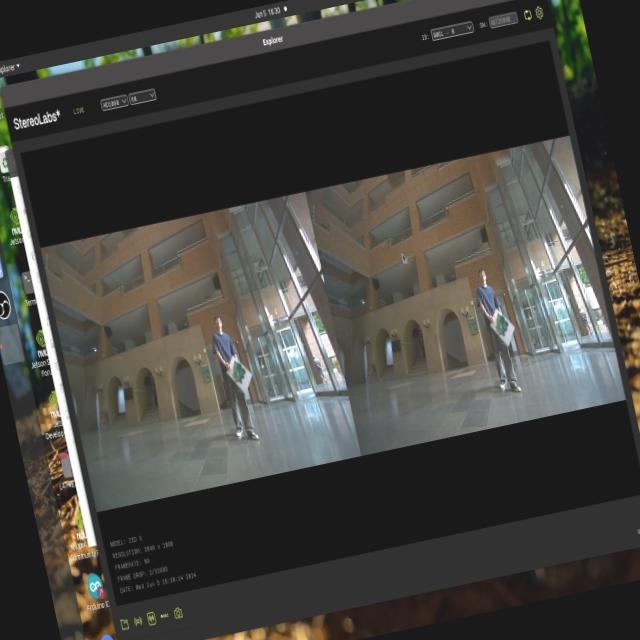green: (492, 310, 518, 352), (226, 352, 250, 394)
